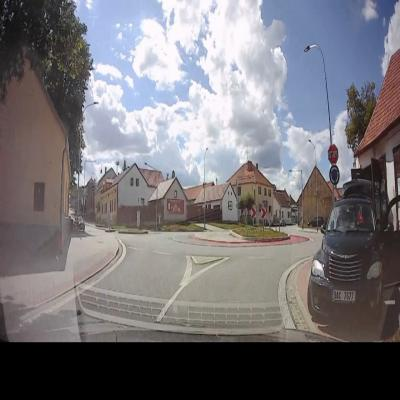clear-road: (102, 228, 321, 302)
